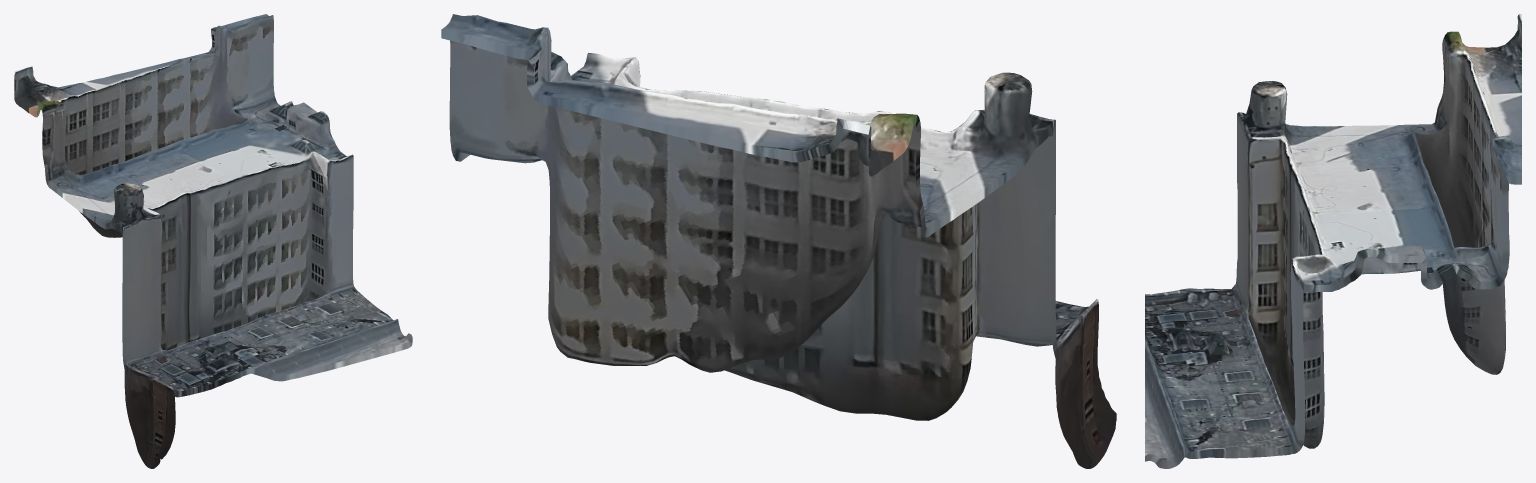
The model's file is z20-167749-405244-h0-yup-uvflip-v3-world.glb.
3 views of the same model, side by side, from view 1: azimuth 30°, elevation 25°; view 2: azimuth 150°, elevation 25°; view 3: azimuth 270°, elevation 25° (orthographic). The views are drawn at different scales.
Bounding box in the file's own units: 30.16 × 34.36 × 30.32.
1 material, 1 textured.
